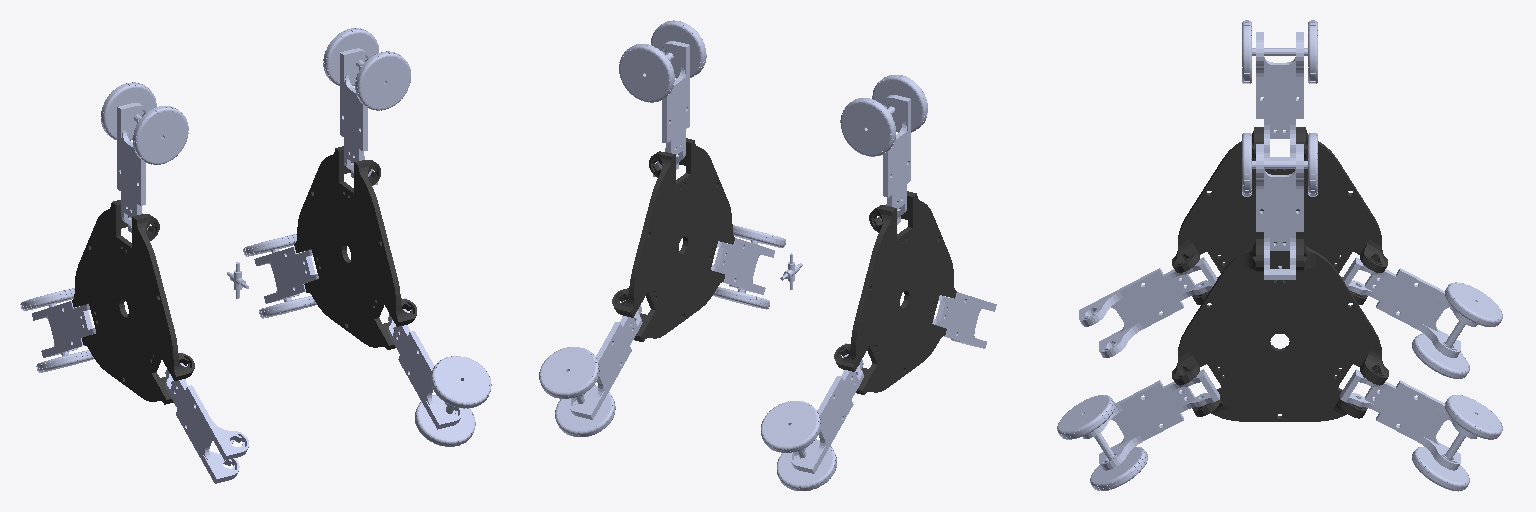
--- What the picture shows (computed from the rendered views, not written in the file) ---
3 views of the same robot in one strip: view 1: azimuth 30°, elevation 25°; view 2: azimuth 150°, elevation 25°; view 3: azimuth 270°, elevation 25° (orthographic).
Model segl_ver1 with 19 links and 18 joints (8 revolute, 6 continuous, 2 prismatic, 2 fixed), rooted at base_link, posed all joints at 0.
Visible links, largest first — view 1: base_link, base2, w6, w3, w4, sus1, sus3, sus4, sus6, sus2, sus5, w2 (+1 smaller); view 2: base_link, base2, w3, w6, w5, w2, sus2, sus5, sus6, sus3, sus1, sus4 (+1 smaller); view 3: base2, base_link, sus1, sus5, sus4, sus2, sus6, sus3, w5, w4, w2, w6 (+1 smaller).
Boxes of the visible links, x1=… form: base_link: x1=72, y1=200, x2=194, y2=404; base2: x1=294, y1=146, x2=416, y2=349; w6: x1=323, y1=28, x2=410, y2=110; w3: x1=101, y1=82, x2=188, y2=164; w4: x1=415, y1=356, x2=491, y2=446; sus1: x1=165, y1=352, x2=248, y2=483; sus3: x1=117, y1=103, x2=154, y2=238; sus4: x1=388, y1=298, x2=461, y2=429; sus6: x1=340, y1=48, x2=377, y2=185; sus2: x1=32, y1=301, x2=95, y2=357; sus5: x1=254, y1=246, x2=318, y2=303; w2: x1=20, y1=288, x2=93, y2=372; base_link: x1=834, y1=191, x2=956, y2=394; base2: x1=612, y1=138, x2=734, y2=341; w3: x1=840, y1=75, x2=927, y2=156; w6: x1=619, y1=20, x2=706, y2=102; w5: x1=539, y1=347, x2=615, y2=436; w2: x1=761, y1=401, x2=836, y2=490; sus2: x1=790, y1=343, x2=863, y2=473; sus5: x1=568, y1=300, x2=642, y2=419; sus6: x1=653, y1=41, x2=689, y2=176; sus3: x1=879, y1=95, x2=910, y2=224; sus1: x1=932, y1=292, x2=996, y2=348; sus4: x1=711, y1=238, x2=774, y2=294; base2: x1=1172, y1=239, x2=1388, y2=421; base_link: x1=1172, y1=127, x2=1387, y2=304; sus1: x1=1079, y1=257, x2=1217, y2=357; sus5: x1=1340, y1=369, x2=1476, y2=470; sus4: x1=1083, y1=369, x2=1219, y2=470; sus2: x1=1342, y1=257, x2=1477, y2=357; sus6: x1=1256, y1=144, x2=1303, y2=279; sus3: x1=1256, y1=32, x2=1303, y2=160; w5: x1=1412, y1=395, x2=1502, y2=491; w4: x1=1057, y1=395, x2=1147, y2=490; w2: x1=1412, y1=282, x2=1502, y2=378; w6: x1=1242, y1=133, x2=1317, y2=196.
Size in the robot's own frame: 0.165 by 0.2231 by 0.1936 metres.
14 mesh visuals loaded from 19 distinct referenced files (14 binary STL); not drawn: 5 (reference not matched to a file when rendering).

robot.urdf — segl_ver1:
<?xml version="1.0" encoding="utf-8"?>
<!-- This URDF was automatically created by SolidWorks to URDF Exporter! Originally created by Stephen Brawner ([email redacted]) 
     Commit Version: 1.6.0-1-g15f4949  Build Version: 1.6.7594.29634
     For more information, please see http://wiki.ros.org/sw_urdf_exporter -->
<robot
  name="segl_ver1">
  <link
    name="base_link">
    <inertial>
      <origin
        xyz="0.0107631885751334 -0.196706606649359 0.125751388465178"
        rpy="0 0 0" />
      <mass
        value="0.0292481653022373" />
      <inertia
        ixx="3.88747734808681E-05"
        ixy="-3.06596509862466E-09"
        ixz="-5.98006564893275E-08"
        iyy="1.98637946417113E-05"
        iyz="-7.6462751095893E-10"
        izz="1.93056895699406E-05" />
    </inertial>
    <visual>
      <origin
        xyz="0 0 0"
        rpy="0 0 0" />
      <geometry>
        <mesh
          filename="package://segl_ver1/meshes/base_link.STL" />
      </geometry>
      <material
        name="">
        <color
          rgba="0.298039215686275 0.298039215686275 0.298039215686275 1" />
      </material>
    </visual>
    <collision>
      <origin
        xyz="0 0 0"
        rpy="0 0 0" />
      <geometry>
        <mesh
          filename="package://segl_ver1/meshes/base_link.STL" />
      </geometry>
    </collision>
  </link>
  <link
    name="sus1">
    <inertial>
      <origin
        xyz="0.0245281392565479 -0.00579743460623024 -0.00799999809102764"
        rpy="0 0 0" />
      <mass
        value="0.00484464615393237" />
      <inertia
        ixx="3.44953495510738E-07"
        ixy="5.10613042897034E-08"
        ixz="1.27802152070217E-14"
        iyy="2.31225028349891E-06"
        iyz="2.19478513893259E-14"
        izz="2.08649864683354E-06" />
    </inertial>
    <visual>
      <origin
        xyz="0 0 0"
        rpy="0 0 0" />
      <geometry>
        <mesh
          filename="package://segl_ver1/meshes/sus1.STL" />
      </geometry>
      <material
        name="">
        <color
          rgba="0.792156862745098 0.819607843137255 0.933333333333333 1" />
      </material>
    </visual>
    <collision>
      <origin
        xyz="0 0 0"
        rpy="0 0 0" />
      <geometry>
        <mesh
          filename="package://segl_ver1/meshes/sus1.STL" />
      </geometry>
    </collision>
  </link>
  <joint
    name="sus1r"
    type="revolute">
    <origin
      xyz="0.0209492573018266 -0.281484925581457 0.067161403096656"
      rpy="3.14159265358979 -0.523598775598299 1.57079632679491" />
    <parent
      link="base_link" />
    <child
      link="sus1" />
    <axis
      xyz="0 0 -1" />
    <limit
      lower="0"
      upper="0"
      effort="0"
      velocity="0" />
  </joint>
  <link
    name="w1">
    <inertial>
      <origin
        xyz="5.22216991871716E-12 0.0109999999662131 1.83967285849462E-11"
        rpy="0 0 0" />
      <mass
        value="0.00802564595067572" />
      <inertia
        ixx="2.63042675367951E-06"
        ixy="-7.55275641553475E-16"
        ixz="6.57318742893018E-16"
        iyy="9.68771865572928E-07"
        iyz="-1.40328681584515E-15"
        izz="2.63042674934207E-06" />
    </inertial>
    <visual>
      <origin
        xyz="0 0 0"
        rpy="0 0 0" />
      <geometry>
        <mesh
          filename="package://segl_ver1/meshes/w1.STL" />
      </geometry>
      <material
        name="">
        <color
          rgba="0.792156862745098 0.819607843137255 0.933333333333333 1" />
      </material>
    </visual>
    <collision>
      <origin
        xyz="0 0 0"
        rpy="0 0 0" />
      <geometry>
        <mesh
          filename="package://segl_ver1/meshes/w1.STL" />
      </geometry>
    </collision>
  </link>
  <joint
    name="w1c"
    type="continuous">
    <origin
      xyz="0 0 -0.019"
      rpy="1.5707963267949 0 -1.09932300692303" />
    <parent
      link="sus1" />
    <child
      link="w1" />
    <axis
      xyz="0 1 0" />
  </joint>
  <link
    name="sus2">
    <inertial>
      <origin
        xyz="0.0245281388862843 -0.00579743458596982 -0.00799999408218524"
        rpy="0 0 0" />
      <mass
        value="0.00484464622012381" />
      <inertia
        ixx="3.44953504540437E-07"
        ixy="5.10613036903035E-08"
        ixz="1.55592500942664E-13"
        iyy="2.31225031988856E-06"
        iyz="4.30376879069476E-14"
        izz="2.0864986737292E-06" />
    </inertial>
    <visual>
      <origin
        xyz="0 0 0"
        rpy="0 0 0" />
      <geometry>
        <mesh
          filename="package://segl_ver1/meshes/sus2.STL" />
      </geometry>
      <material
        name="">
        <color
          rgba="0.792156862745098 0.819607843137255 0.933333333333333 1" />
      </material>
    </visual>
    <collision>
      <origin
        xyz="0 0 0"
        rpy="0 0 0" />
      <geometry>
        <mesh
          filename="package://segl_ver1/meshes/sus2.STL" />
      </geometry>
    </collision>
  </link>
  <joint
    name="sus2r"
    type="revolute">
    <origin
      xyz="0.0209492573018259 -0.103962409966498 0.0810178095573729"
      rpy="0 -0.523598775598294 -1.5707963267949" />
    <parent
      link="base_link" />
    <child
      link="sus2" />
    <axis
      xyz="0 0 -1" />
    <limit
      lower="0"
      upper="0"
      effort="0"
      velocity="0" />
  </joint>
  <link
    name="w2">
    <inertial>
      <origin
        xyz="5.21314935664208E-12 0.0109999999660882 1.84374460143744E-11"
        rpy="0 0 0" />
      <mass
        value="0.00802564595064063" />
      <inertia
        ixx="2.63042675366783E-06"
        ixy="-7.55284323641185E-16"
        ixz="6.57278402948905E-16"
        iyy="9.6877186556785E-07"
        iyz="-1.39968959926706E-15"
        izz="2.63042674933547E-06" />
    </inertial>
    <visual>
      <origin
        xyz="0 0 0"
        rpy="0 0 0" />
      <geometry>
        <mesh
          filename="package://segl_ver1/meshes/w2.STL" />
      </geometry>
      <material
        name="">
        <color
          rgba="0.792156862745098 0.819607843137255 0.933333333333333 1" />
      </material>
    </visual>
    <collision>
      <origin
        xyz="0 0 0"
        rpy="0 0 0" />
      <geometry>
        <mesh
          filename="package://segl_ver1/meshes/w2.STL" />
      </geometry>
    </collision>
  </link>
  <joint
    name="w2c"
    type="continuous">
    <origin
      xyz="0 0 -0.019"
      rpy="1.5707963267949 0 -1.09932300692303" />
    <parent
      link="sus2" />
    <child
      link="w2" />
    <axis
      xyz="0 1 0" />
  </joint>
  <link
    name="sus3">
    <inertial>
      <origin
        xyz="0.0245281427339185 -0.00579743476204341 -0.00799999583699246"
        rpy="0 0 0" />
      <mass
        value="0.00484464531506038" />
      <inertia
        ixx="3.44953306450567E-07"
        ixy="5.10613156648366E-08"
        ixz="7.85719483155942E-14"
        iyy="2.31224993634185E-06"
        iyz="3.48701370300672E-14"
        izz="2.08649849059194E-06" />
    </inertial>
    <visual>
      <origin
        xyz="0 0 0"
        rpy="0 0 0" />
      <geometry>
        <mesh
          filename="package://segl_ver1/meshes/sus3.STL" />
      </geometry>
      <material
        name="">
        <color
          rgba="0.792156862745098 0.819607843137255 0.933333333333333 1" />
      </material>
    </visual>
    <collision>
      <origin
        xyz="0 0 0"
        rpy="0 0 0" />
      <geometry>
        <mesh
          filename="package://segl_ver1/meshes/sus3.STL" />
      </geometry>
    </collision>
  </link>
  <joint
    name="sus3r"
    type="revolute">
    <origin
      xyz="0.0209492573018252 -0.20472366777412 0.227828614593289"
      rpy="1.5707963267949 1.5707963267949 0" />
    <parent
      link="base_link" />
    <child
      link="sus3" />
    <axis
      xyz="0 0 1" />
    <limit
      lower="0"
      upper="0"
      effort="0"
      velocity="0" />
  </joint>
  <link
    name="w3">
    <inertial>
      <origin
        xyz="5.21754861537715E-12 0.0109999999661513 1.84169901551456E-11"
        rpy="0 0 0" />
      <mass
        value="0.00802564595065764" />
      <inertia
        ixx="2.63042675367367E-06"
        ixy="-7.55267406322108E-16"
        ixz="6.57297037673746E-16"
        iyy="9.6877186557038E-07"
        iyz="-1.40145232009969E-15"
        izz="2.63042674933879E-06" />
    </inertial>
    <visual>
      <origin
        xyz="0 0 0"
        rpy="0 0 0" />
      <geometry>
        <mesh
          filename="package://segl_ver1/meshes/w3.STL" />
      </geometry>
      <material
        name="">
        <color
          rgba="0.792156862745098 0.819607843137255 0.933333333333333 1" />
      </material>
    </visual>
    <collision>
      <origin
        xyz="0 0 0"
        rpy="0 0 0" />
      <geometry>
        <mesh
          filename="package://segl_ver1/meshes/w3.STL" />
      </geometry>
    </collision>
  </link>
  <joint
    name="w3c"
    type="continuous">
    <origin
      xyz="0 0 -0.019"
      rpy="1.5707963267949 0 -1.09932300692303" />
    <parent
      link="sus3" />
    <child
      link="w3" />
    <axis
      xyz="0 1 0" />
  </joint>
  <link
    name="con1">
    <inertial>
      <origin
        xyz="0.0150000000000001 -8.32667268468867E-17 -1.52655665885959E-16"
        rpy="0 0 0" />
      <mass
        value="0.00235619449019234" />
      <inertia
        ixx="2.94524311274043E-08"
        ixy="4.86347831101101E-22"
        ixz="1.21907854063494E-21"
        iyy="1.91440802328128E-07"
        iyz="0"
        izz="1.91440802328128E-07" />
    </inertial>
    <visual>
      <origin
        xyz="0 0 0"
        rpy="0 0 0" />
      <geometry>
        <mesh
          filename="package://segl_ver1/meshes/con1.STL" />
      </geometry>
      <material
        name="">
        <color
          rgba="0.792156862745098 0.819607843137255 0.933333333333333 1" />
      </material>
    </visual>
    <collision>
      <origin
        xyz="0 0 0"
        rpy="0 0 0" />
      <geometry>
        <mesh
          filename="package://segl_ver1/meshes/con1.STL" />
      </geometry>
    </collision>
  </link>
  <joint
    name="con1f"
    type="fixed">
    <origin
      xyz="0.0116192573018258 -0.196723667774025 0.125335942415772"
      rpy="3.05723846361397 0 0" />
    <parent
      link="base_link" />
    <child
      link="con1" />
    <axis
      xyz="0 0 0" />
  </joint>
  <link
    name="con2">
    <inertial>
      <origin
        xyz="5.55111512312578E-17 0.0511300493614309 -1.38777878078145E-16"
        rpy="0 0 0" />
      <mass
        value="0.00279336263712055" />
      <inertia
        ixx="3.47148573143988E-07"
        ixy="-3.19349468921717E-22"
        ixz="6.22364891927685E-24"
        iyy="3.99316347503688E-08"
        iyz="1.0633001860503E-21"
        izz="3.49420107139763E-07" />
    </inertial>
    <visual>
      <origin
        xyz="0 0 0"
        rpy="0 0 0" />
      <geometry>
        <mesh
          filename="package://segl_ver1/meshes/con2.STL" />
      </geometry>
      <material
        name="">
        <color
          rgba="0.792156862745098 0.819607843137255 0.933333333333333 1" />
      </material>
    </visual>
    <collision>
      <origin
        xyz="0 0 0"
        rpy="0 0 0" />
      <geometry>
        <mesh
          filename="package://segl_ver1/meshes/con2.STL" />
      </geometry>
    </collision>
  </link>
  <joint
    name="con2p"
    type="prismatic">
    <origin
      xyz="-0.00299999999999994 0 0"
      rpy="0 -1.48644213681907 -1.5707963267948" />
    <parent
      link="con1" />
    <child
      link="con2" />
    <axis
      xyz="0 -1 0" />
    <limit
      lower="0"
      upper="0"
      effort="0"
      velocity="0" />
  </joint>
  <link
    name="uni">
    <inertial>
      <origin
        xyz="0 1.92840421409102E-09 1.92840421409102E-09"
        rpy="0 0 0" />
      <mass
        value="0.000271492148155946" />
      <inertia
        ixx="5.93557661395575E-09"
        ixy="4.47220671764035E-15"
        ixz="-4.47220671840921E-15"
        iyy="3.20070578284846E-09"
        iyz="1.0082614228937E-21"
        izz="3.20070578284845E-09" />
    </inertial>
    <visual>
      <origin
        xyz="0 0 0"
        rpy="0 0 0" />
      <geometry>
        <mesh
          filename="package://segl_ver1/meshes/uni.STL" />
      </geometry>
      <material
        name="">
        <color
          rgba="0.792156862745098 0.819607843137255 0.933333333333333 1" />
      </material>
    </visual>
    <collision>
      <origin
        xyz="0 0 0"
        rpy="0 0 0" />
      <geometry>
        <mesh
          filename="package://segl_ver1/meshes/uni.STL" />
      </geometry>
    </collision>
  </link>
  <joint
    name="unir"
    type="revolute">
    <origin
      xyz="0 0.0680000000000009 0"
      rpy="0 0 1.57079632679489" />
    <parent
      link="con2" />
    <child
      link="uni" />
    <axis
      xyz="0 -1 0" />
    <limit
      lower="0"
      upper="0"
      effort="0"
      velocity="0" />
  </joint>
  <link
    name="con3">
    <inertial>
      <origin
        xyz="0.0168699506385676 -4.71844785465692E-16 1.66533453693773E-16"
        rpy="0 0 0" />
      <mass
        value="0.00279336263712055" />
      <inertia
        ixx="3.99316347503688E-08"
        ixy="-2.21478358698145E-21"
        ixz="9.91841281771109E-22"
        iyy="3.49420107139762E-07"
        iyz="2.20123746992855E-23"
        izz="3.47148573143987E-07" />
    </inertial>
    <visual>
      <origin
        xyz="0 0 0"
        rpy="0 0 0" />
      <geometry>
        <mesh
          filename="package://segl_ver1/meshes/con3.STL" />
      </geometry>
      <material
        name="">
        <color
          rgba="0.792156862745098 0.819607843137255 0.933333333333333 1" />
      </material>
    </visual>
    
  </link>
  <joint
    name="con3r"
    type="revolute">
    <origin
      xyz="0 0 0"
      rpy="0 0 0" />
    <parent
      link="uni" />
    <child
      link="con3" />
    <axis
      xyz="0 0 -1" />
    <limit
      lower="0"
      upper="0"
      effort="0"
      velocity="0" />
  </joint>
  <link
    name="con4">
    <inertial>
      <origin
        xyz="-0.0150000000000001 -7.49400541621981E-16 -3.33066907387547E-16"
        rpy="0 0 0" />
      <mass
        value="0.00235619449019234" />
      <inertia
        ixx="2.94524311274043E-08"
        ixy="-1.15743391516541E-21"
        ixz="-6.82310798372852E-22"
        iyy="1.91440802328128E-07"
        iyz="6.61744490042422E-24"
        izz="1.91440802328128E-07" />
    </inertial>
    <visual>
      <origin
        xyz="0 0 0"
        rpy="0 0 0" />
      <geometry>
        <mesh
          filename="package://segl_ver1/meshes/con4.STL" />
      </geometry>
      <material
        name="">
        <color
          rgba="0.792156862745098 0.819607843137255 0.933333333333333 1" />
      </material>
    </visual>
    <collision>
      <origin
        xyz="0 0 0"
        rpy="0 0 0" />
      <geometry>
        <mesh
          filename="package://segl_ver1/meshes/con4.STL" />
      </geometry>
    </collision>
  </link>
  <joint
    name="con4p"
    type="prismatic">
    <origin
      xyz="0.0650000000000009 0 0"
      rpy="-0.98269663008103 0 0" />
    <parent
      link="con3" />
    <child
      link="con4" />
    <axis
      xyz="-1 0 0" />
    <limit
      lower="0"
      upper="0"
      effort="0"
      velocity="0" />
  </joint>
  <link
    name="base2">
    <inertial>
      <origin
        xyz="-1.70019768646057E-05 0.00214393347748168 0.000415436461369545"
        rpy="0 0 0" />
      <mass
        value="0.0292481701284546" />
      <inertia
        ixx="1.98637964228682E-05"
        ixy="3.05143639764213E-09"
        ixz="8.03293928394738E-10"
        iyy="3.88747924136026E-05"
        iyz="-5.98005959044397E-08"
        izz="1.93057075699702E-05" />
    </inertial>
    <visual>
      <origin
        xyz="0 0 0"
        rpy="0 0 0" />
      <geometry>
        <mesh
          filename="package://segl_ver1/meshes/base2.STL" />
      </geometry>
      <material
        name="">
        <color
          rgba="0.298039215686275 0.298039215686275 0.298039215686275 1" />
      </material>
    </visual>
    <collision>
      <origin
        xyz="0 0 0"
        rpy="0 0 0" />
      <geometry>
        <mesh
          filename="package://segl_ver1/meshes/base2.STL" />
      </geometry>
    </collision>
  </link>
  <joint
    name="base2f"
    type="fixed">
    <origin
      xyz="0 0 0"
      rpy="3.14159265358979 -0.459097854482748 1.5707963267949" />
    <parent
      link="con4" />
    <child
      link="base2" />
    <axis
      xyz="0 0 0" />
  </joint>
  <link
    name="sus4">
    <inertial>
      <origin
        xyz="0.0245281392565479 -0.00579743460623025 -0.00799999809102761"
        rpy="0 0 0" />
      <mass
        value="0.00484464615393236" />
      <inertia
        ixx="3.44953495510737E-07"
        ixy="5.10613042897036E-08"
        ixz="1.27802164378664E-14"
        iyy="2.31225028349891E-06"
        iyz="2.19478512172723E-14"
        izz="2.08649864683353E-06" />
    </inertial>
    <visual>
      <origin
        xyz="0 0 0"
        rpy="0 0 0" />
      <geometry>
        <mesh
          filename="package://segl_ver1/meshes/sus4.STL" />
      </geometry>
      <material
        name="">
        <color
          rgba="0.792156862745098 0.819607843137255 0.933333333333333 1" />
      </material>
    </visual>
    <collision>
      <origin
        xyz="0 0 0"
        rpy="0 0 0" />
      <geometry>
        <mesh
          filename="package://segl_ver1/meshes/sus4.STL" />
      </geometry>
    </collision>
  </link>
  <joint
    name="sus4r"
    type="revolute">
    <origin
      xyz="-0.092761257807526 0.0123300000000007 -0.0443181328584011"
      rpy="0 -0.523598775598312 0" />
    <parent
      link="base2" />
    <child
      link="sus4" />
    <axis
      xyz="0 0 -1" />
    <limit
      lower="0"
      upper="0"
      effort="0"
      velocity="0" />
  </joint>
  <link
    name="w4">
    <inertial>
      <origin
        xyz="5.2220727742025E-12 0.010999999966213 1.83967285849462E-11"
        rpy="0 0 0" />
      <mass
        value="0.00802564595067572" />
      <inertia
        ixx="2.63042675367951E-06"
        ixy="-7.55277547377607E-16"
        ixz="6.5731800173919E-16"
        iyy="9.6877186557293E-07"
        iyz="-1.40328700113361E-15"
        izz="2.63042674934208E-06" />
    </inertial>
    <visual>
      <origin
        xyz="0 0 0"
        rpy="0 0 0" />
      <geometry>
        <mesh
          filename="package://segl_ver1/meshes/w4.STL" />
      </geometry>
      <material
        name="">
        <color
          rgba="0.792156862745098 0.819607843137255 0.933333333333333 1" />
      </material>
    </visual>
    <collision>
      <origin
        xyz="0 0 0"
        rpy="0 0 0" />
      <geometry>
        <mesh
          filename="package://segl_ver1/meshes/w4.STL" />
      </geometry>
    </collision>
  </link>
  <joint
    name="w4c"
    type="continuous">
    <origin
      xyz="0 0 -0.019"
      rpy="1.57079632679489 0 -1.09932300692303" />
    <parent
      link="sus4" />
    <child
      link="w4" />
    <axis
      xyz="0 1 0" />
  </joint>
  <link
    name="sus5">
    <inertial>
      <origin
        xyz="0.0245281388862843 -0.00579743458596979 -0.00799999408218524"
        rpy="0 0 0" />
      <mass
        value="0.00484464622012381" />
      <inertia
        ixx="3.44953504540437E-07"
        ixy="5.10613036903037E-08"
        ixz="1.55592501577939E-13"
        iyy="2.31225031988856E-06"
        iyz="4.3037688074038E-14"
        izz="2.0864986737292E-06" />
    </inertial>
    <visual>
      <origin
        xyz="0 0 0"
        rpy="0 0 0" />
      <geometry>
        <mesh
          filename="package://segl_ver1/meshes/sus5.STL" />
      </geometry>
      <material
        name="">
        <color
          rgba="0.792156862745098 0.819607843137255 0.933333333333333 1" />
      </material>
    </visual>
    <collision>
      <origin
        xyz="0 0 0"
        rpy="0 0 0" />
      <geometry>
        <mesh
          filename="package://segl_ver1/meshes/sus5.STL" />
      </geometry>
    </collision>
  </link>
  <joint
    name="sus5r"
    type="revolute">
    <origin
      xyz="0.00800000000009428 0.01233 0.102492672177516"
      rpy="0 1.5707963267949 0" />
    <parent
      link="base2" />
    <child
      link="sus5" />
    <axis
      xyz="0 0 -1" />
    <limit
      lower="0"
      upper="0"
      effort="0"
      velocity="0" />
  </joint>
  <link
    name="w5">
    <inertial>
      <origin
        xyz="5.21316323442989E-12 0.0109999999660882 1.84374182587987E-11"
        rpy="0 0 0" />
      <mass
        value="0.00802564595064064" />
      <inertia
        ixx="2.63042675366783E-06"
        ixy="-7.55283489843127E-16"
        ixz="6.57280308773037E-16"
        iyy="9.68771865567853E-07"
        iyz="-1.39969039336045E-15"
        izz="2.63042674933548E-06" />
    </inertial>
    <visual>
      <origin
        xyz="0 0 0"
        rpy="0 0 0" />
      <geometry>
        <mesh
          filename="package://segl_ver1/meshes/w5.STL" />
      </geometry>
      <material
        name="">
        <color
          rgba="0.792156862745098 0.819607843137255 0.933333333333333 1" />
      </material>
    </visual>
    <collision>
      <origin
        xyz="0 0 0"
        rpy="0 0 0" />
      <geometry>
        <mesh
          filename="package://segl_ver1/meshes/w5.STL" />
      </geometry>
    </collision>
  </link>
  <joint
    name="w5c"
    type="continuous">
    <origin
      xyz="0 0 -0.019"
      rpy="1.5707963267949 0 -1.09932300692303" />
    <parent
      link="sus5" />
    <child
      link="w5" />
    <axis
      xyz="0 1 0" />
  </joint>
  <link
    name="sus6">
    <inertial>
      <origin
        xyz="0.0245281427339185 -0.00579743476204342 -0.00799999583699254"
        rpy="0 0 0" />
      <mass
        value="0.00484464531506037" />
      <inertia
        ixx="3.44953306450566E-07"
        ixy="5.10613156648364E-08"
        ixz="7.85719547826141E-14"
        iyy="2.31224993634185E-06"
        iyz="3.48701369967968E-14"
        izz="2.08649849059194E-06" />
    </inertial>
    <visual>
      <origin
        xyz="0 0 0"
        rpy="0 0 0" />
      <geometry>
        <mesh
          filename="package://segl_ver1/meshes/sus6.STL" />
      </geometry>
      <material
        name="">
        <color
          rgba="0.792156862745098 0.819607843137255 0.933333333333333 1" />
      </material>
    </visual>
    <collision>
      <origin
        xyz="0 0 0"
        rpy="0 0 0" />
      <geometry>
        <mesh
          filename="package://segl_ver1/meshes/sus6.STL" />
      </geometry>
    </collision>
  </link>
  <joint
    name="sus6r"
    type="revolute">
    <origin
      xyz="0.0847612578074339 0.0123299999999992 -0.0581745393191151"
      rpy="-3.14159265358979 -0.523598775598282 3.14159265358978" />
    <parent
      link="base2" />
    <child
      link="sus6" />
    <axis
      xyz="0 0 1" />
    <limit
      lower="0"
      upper="0"
      effort="0"
      velocity="0" />
  </joint>
  <link
    name="w6">
    <inertial>
      <origin
        xyz="5.21757637095277E-12 0.0109999999661513 1.84169901551456E-11"
        rpy="0 0 0" />
      <mass
        value="0.00802564595065763" />
      <inertia
        ixx="2.63042675367367E-06"
        ixy="-7.55270770142108E-16"
        ixz="6.57297037673745E-16"
        iyy="9.68771865570381E-07"
        iyz="-1.40144993945177E-15"
        izz="2.63042674933879E-06" />
    </inertial>
    <visual>
      <origin
        xyz="0 0 0"
        rpy="0 0 0" />
      <geometry>
        <mesh
          filename="package://segl_ver1/meshes/w6.STL" />
      </geometry>
      <material
        name="">
        <color
          rgba="0.792156862745098 0.819607843137255 0.933333333333333 1" />
      </material>
    </visual>
    <collision>
      <origin
        xyz="0 0 0"
        rpy="0 0 0" />
      <geometry>
        <mesh
          filename="package://segl_ver1/meshes/w6.STL" />
      </geometry>
    </collision>
  </link>
  <joint
    name="w6c"
    type="continuous">
    <origin
      xyz="0 0 -0.019"
      rpy="1.5707963267949 0 -1.09932300692303" />
    <parent
      link="sus6" />
    <child
      link="w6" />
    <axis
      xyz="0 1 0" />
  </joint>
</robot>
